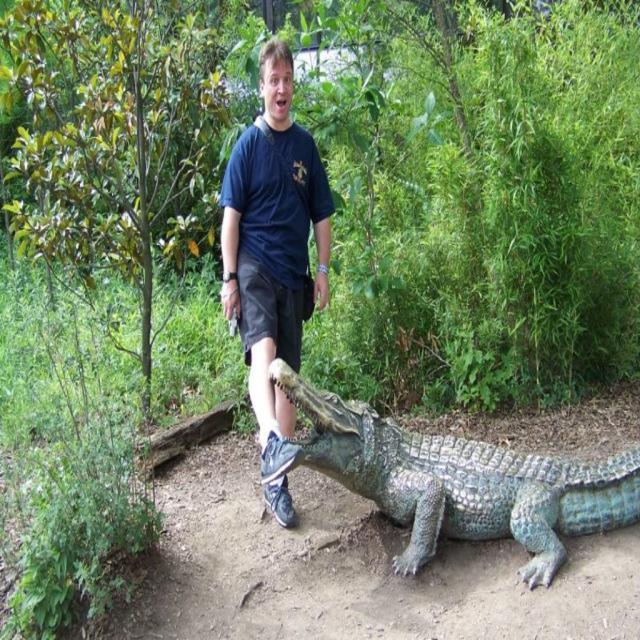crocodile: (265, 362, 639, 587)
